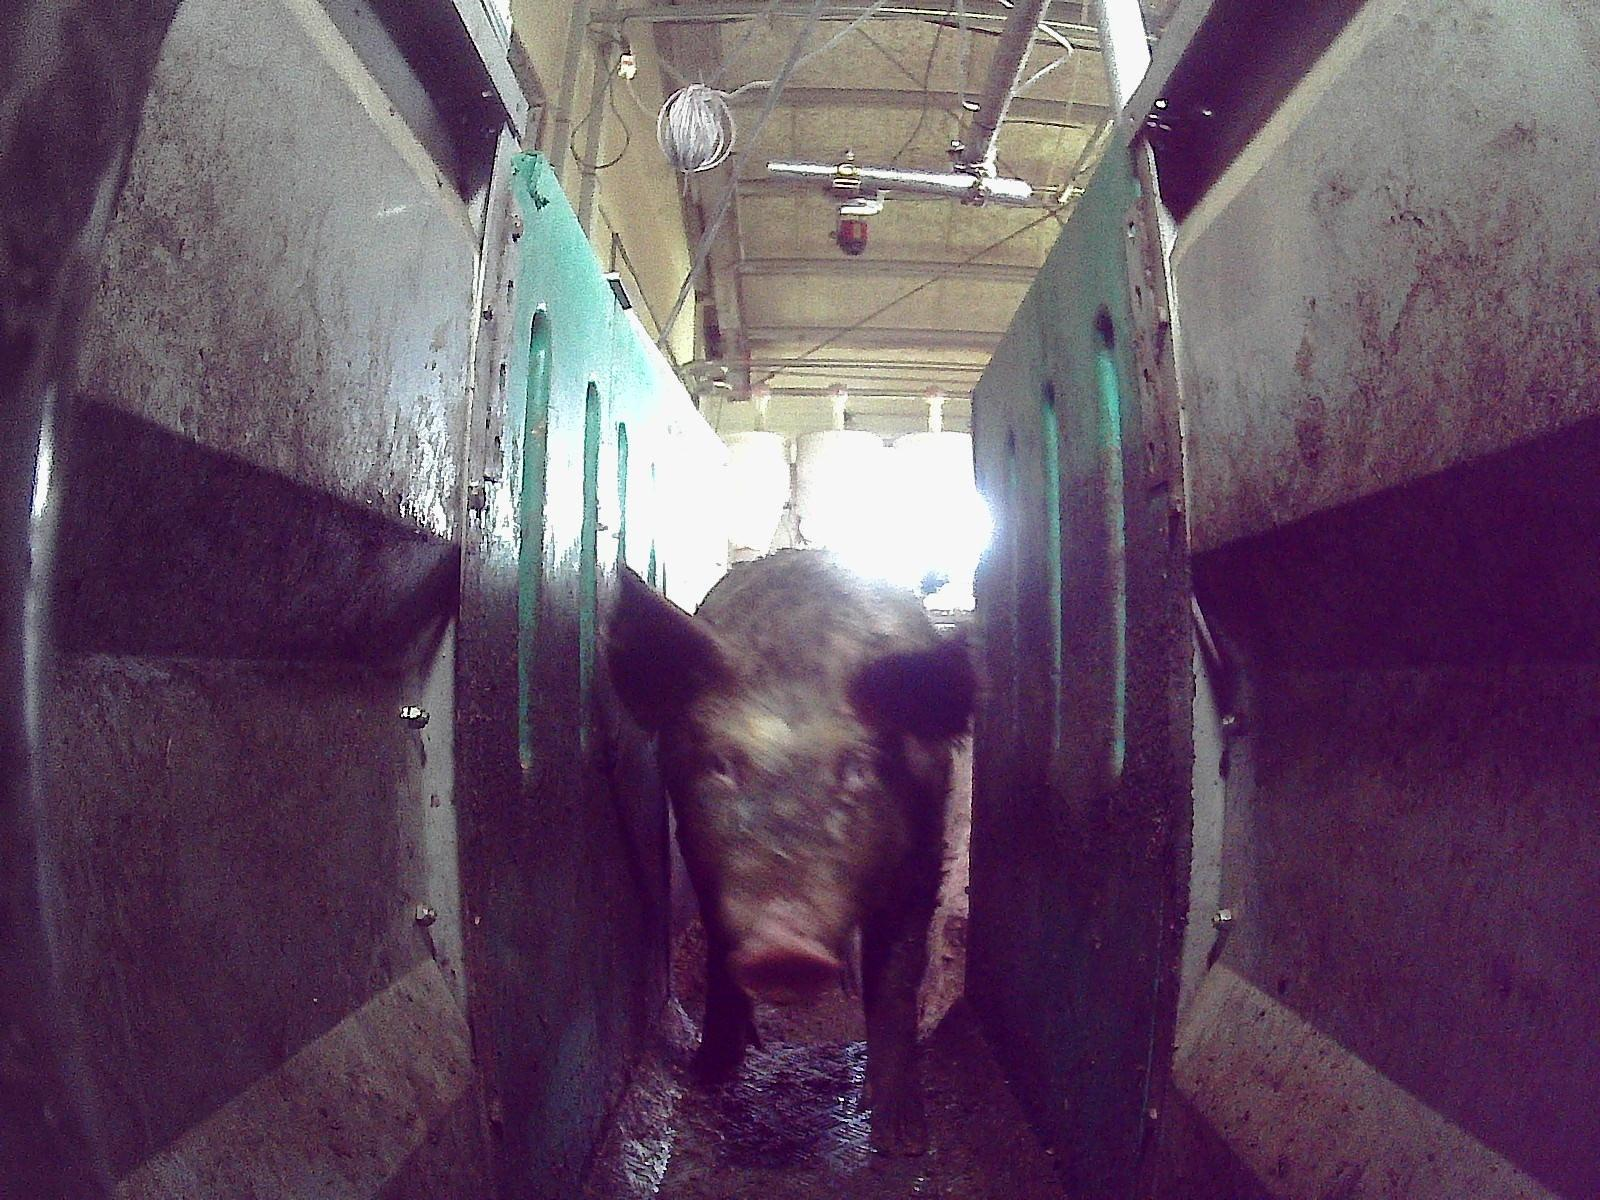Face: (678, 675, 901, 1006)
